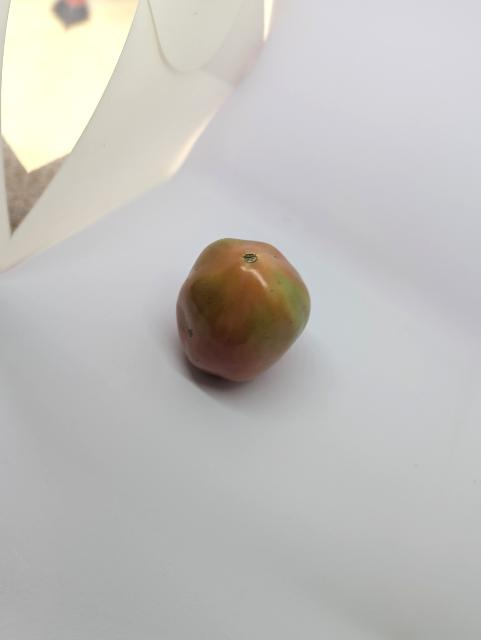turning: (171, 232, 318, 387)
